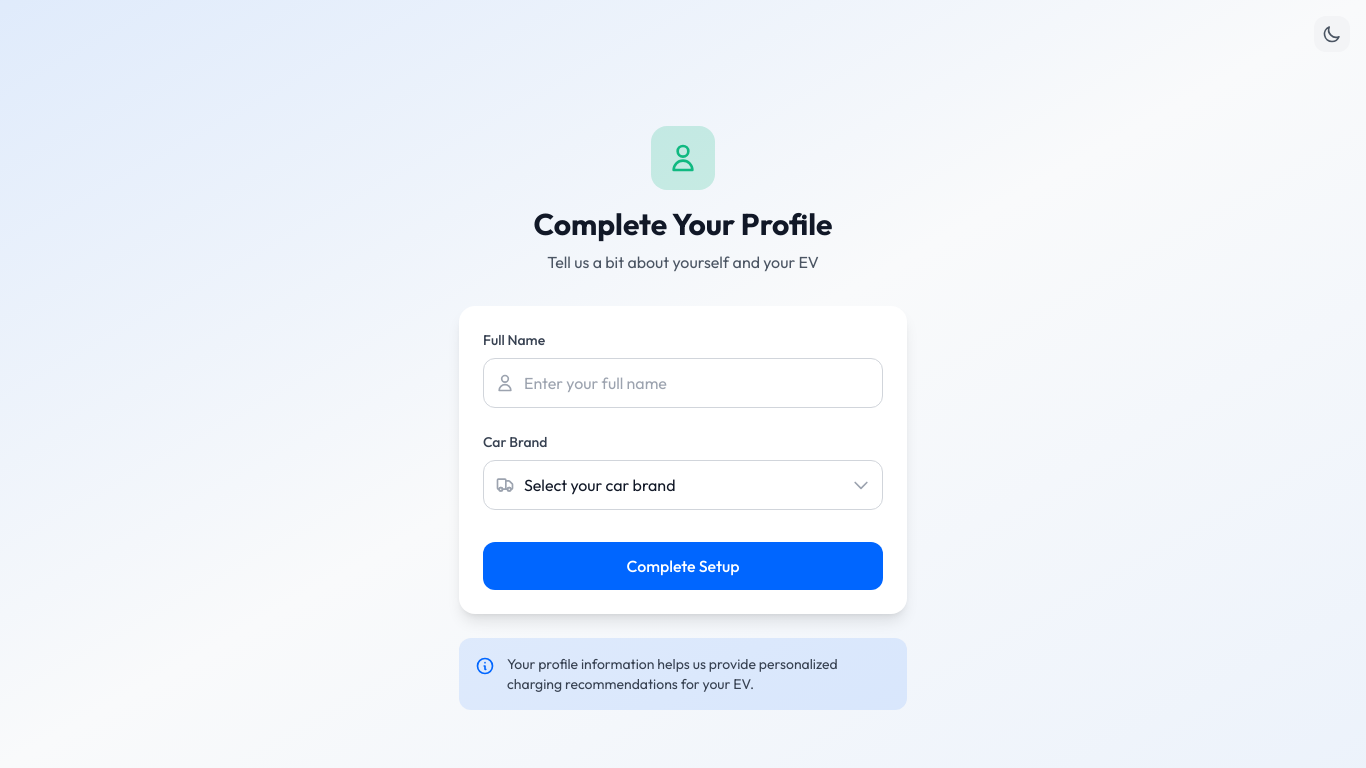
it: ProfileSetup Component › shows error when name is empty
What coordinates should you click on to do the following:
click the button "Complete Setup"
I would click on:
 (683, 566)
Its box is x1=483 y1=542 x2=883 y2=590.
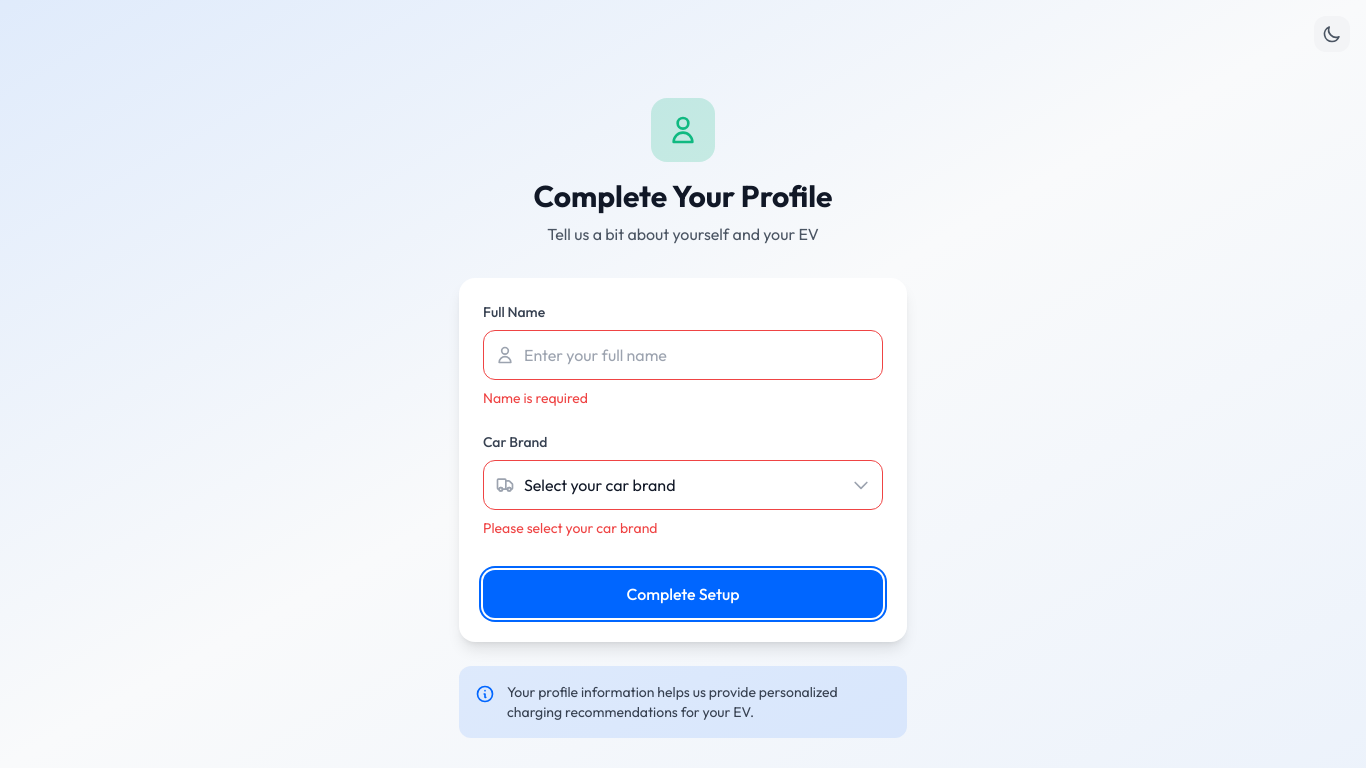
Now the text "Name is required" is shown, box x1=483 y1=389 x2=588 y2=407
